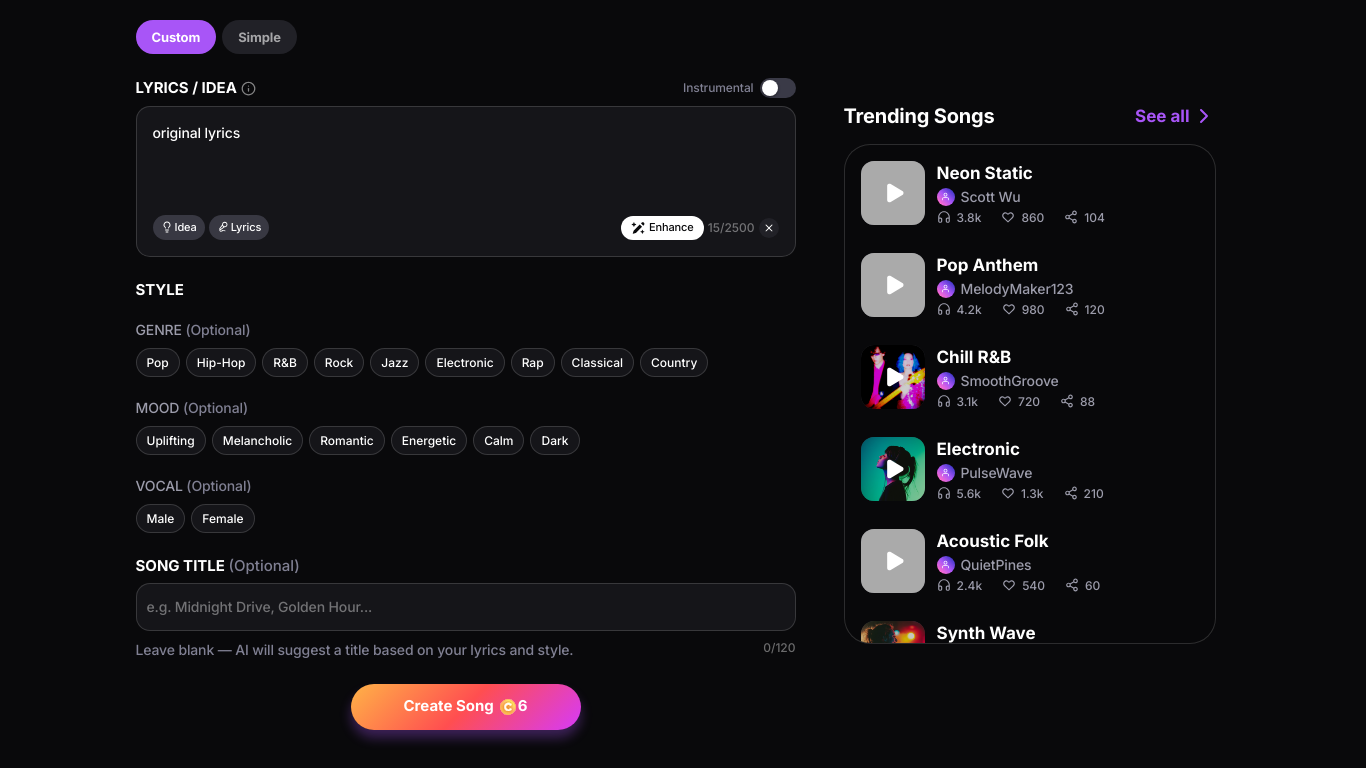
Song Enhance error presentation › keeps custom input on an unsupported-language error (instrumental false, direction Refine Lyrics)
Click the button "Enhance" at point(662, 228), box [621,216,704,240]
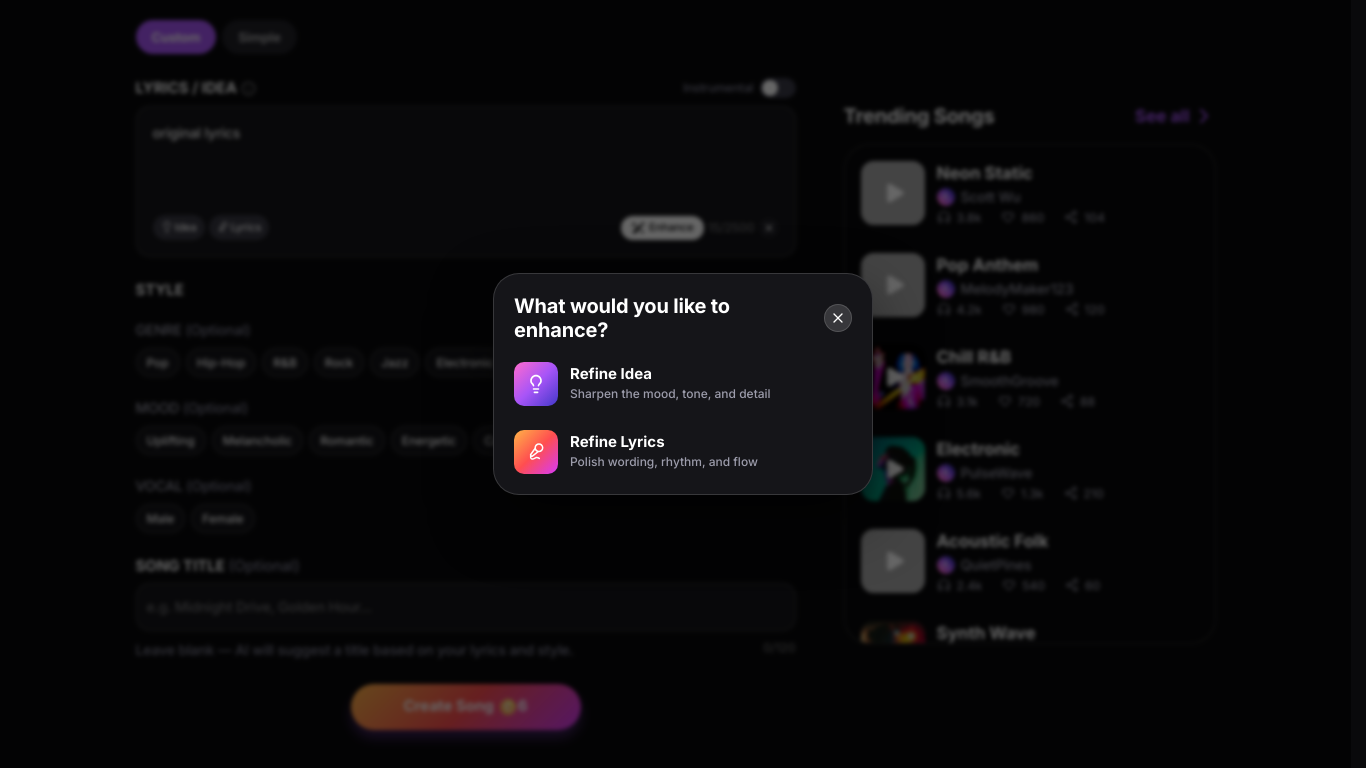
Click the button "Refine Lyrics Polish wording, rhythm, and flow" at point(683, 452), box [506,422,860,482]
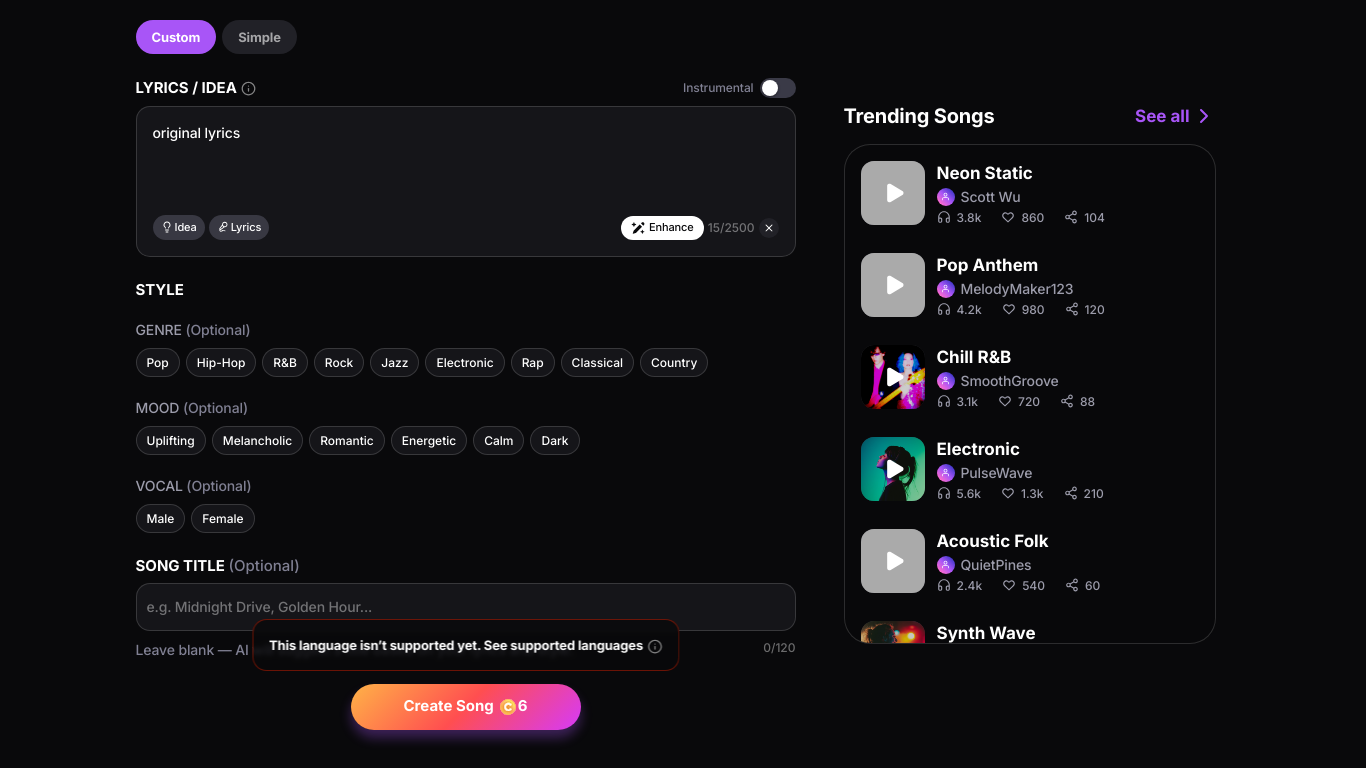
Check: the message shows "This language isn’t supported yet.", box [269,637,481,653]
Click the button named "Supported languages" next to "languages" at point(654, 646), box [647,639,662,654]
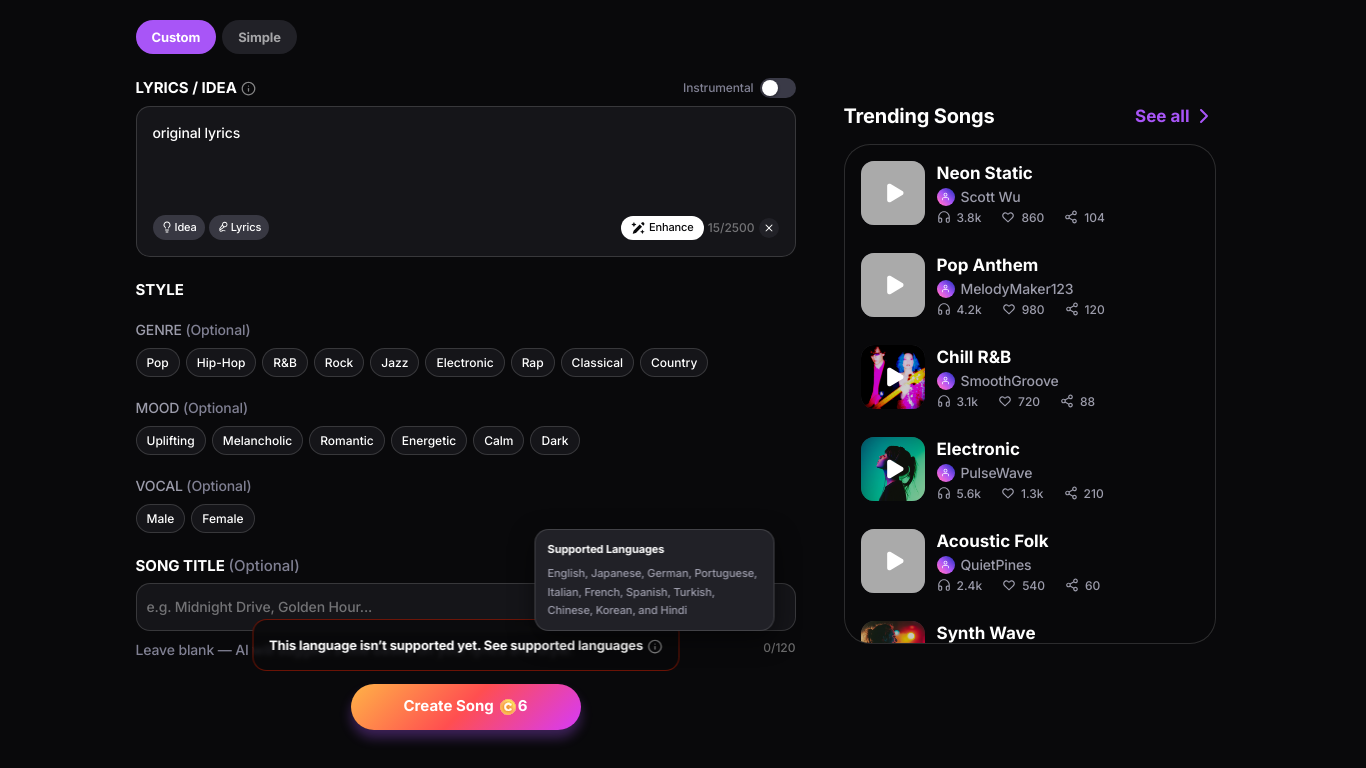
Check: the text box holds "original lyrics", box [152,123,778,207]
Check: the tooltip shows "English, Japanese, German, Portuguese, Italian, French, Spanish, Turkish, Chinese, Korean, and Hindi", box [548,566,757,617]
